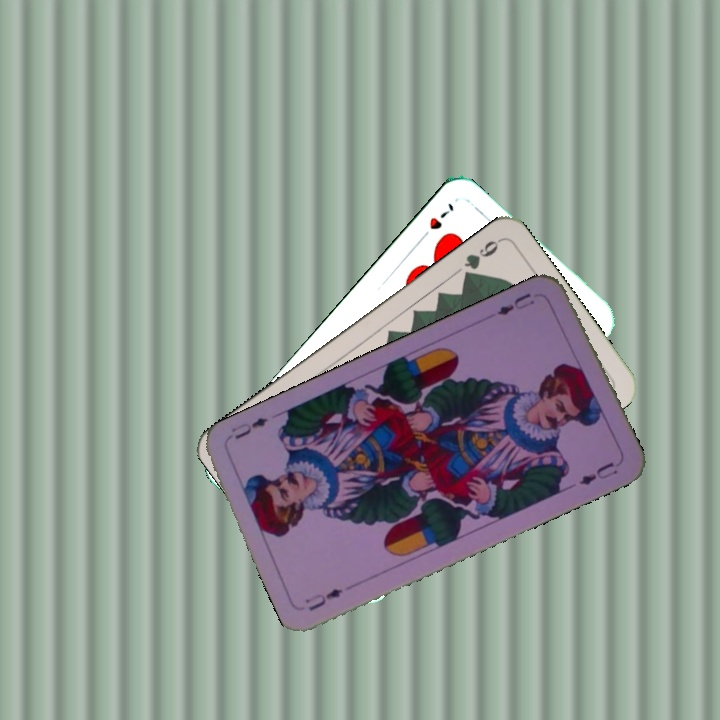EU: (301, 584, 346, 614), (493, 289, 537, 318)
G9: (459, 235, 503, 283)
H7: (414, 199, 457, 246)
